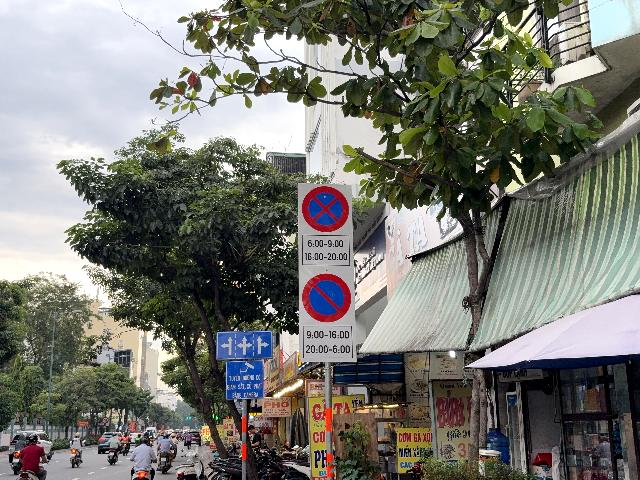cam-do-xe: (302, 274, 352, 323)
cam-dung-va-do-xe: (302, 186, 349, 233)
